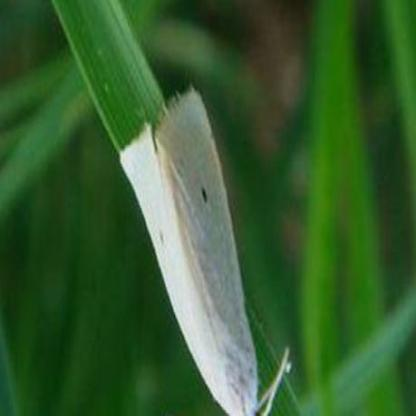stem-borer: (119, 81, 292, 416)
